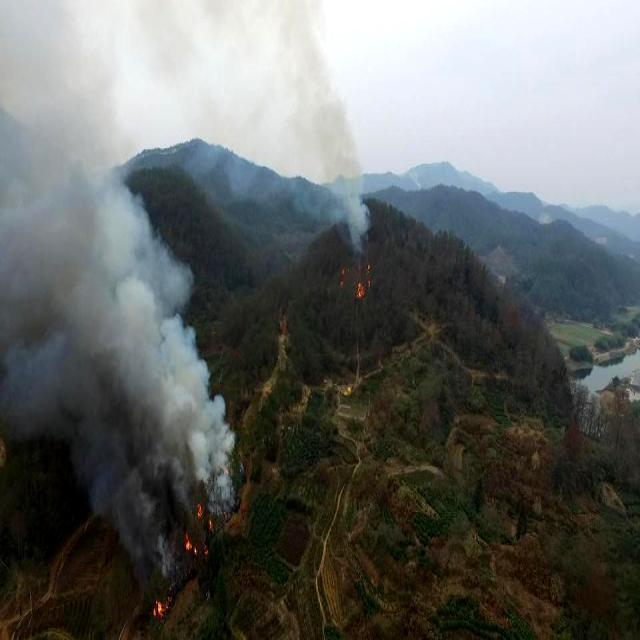Smoke: (0, 118, 233, 572), (313, 85, 370, 256)
